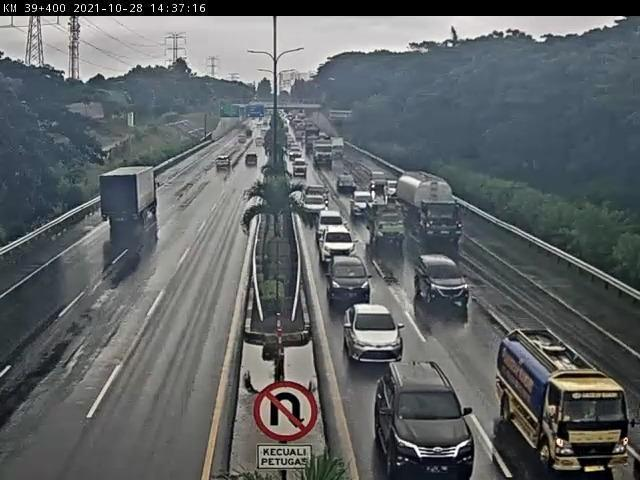car: (374, 357, 474, 478), (406, 249, 485, 321), (342, 300, 400, 358), (326, 251, 373, 304), (323, 228, 356, 263), (316, 208, 347, 243), (347, 185, 376, 214), (301, 192, 326, 219), (334, 172, 360, 192), (367, 170, 387, 193), (302, 181, 330, 197), (213, 157, 231, 175), (293, 158, 310, 176), (243, 155, 259, 172)
truck: (493, 316, 640, 480), (394, 169, 476, 250), (95, 163, 169, 231), (364, 203, 403, 247), (311, 137, 336, 166)
